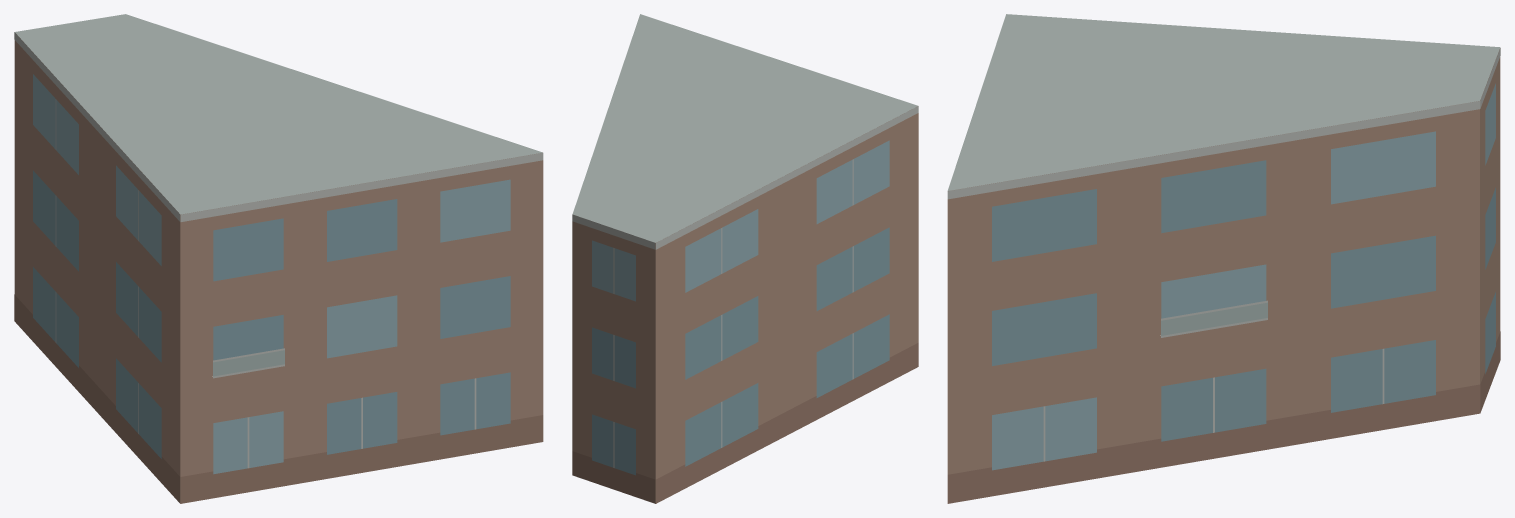
File: survey-upis-32607226.glb
The picture shows the model from 3 angles, left to right: view 1: azimuth 30°, elevation 25°; view 2: azimuth 150°, elevation 25°; view 3: azimuth 270°, elevation 25°; orthographic projection. The views are drawn at different scales.
Parts seen in each view (by area): view 1: survey-upis-32607226.tmp; view 2: survey-upis-32607226.tmp; view 3: survey-upis-32607226.tmp.
Boxes of the visible parts, x1,y1,x2,y2 form: survey-upis-32607226.tmp: (14, 14, 543, 503); survey-upis-32607226.tmp: (572, 14, 918, 503); survey-upis-32607226.tmp: (947, 14, 1500, 503).
Bounding box in the file's own units: 11.19 × 9.2 × 14.76.
